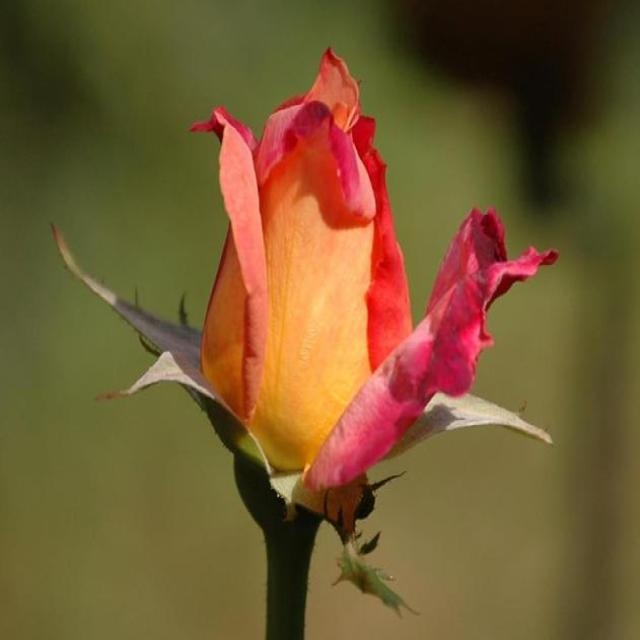rose: (111, 54, 569, 559)
